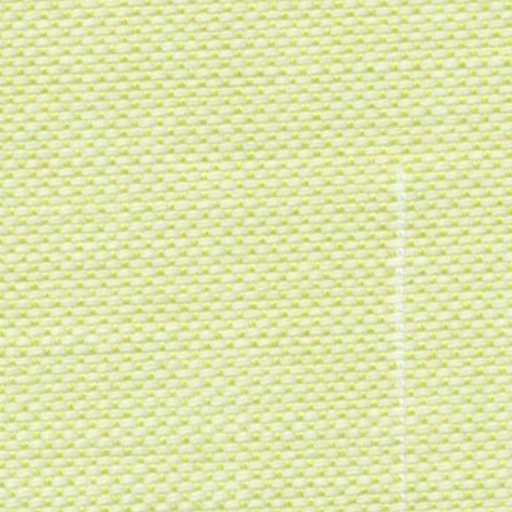DaiSha: (374, 155, 432, 454)
